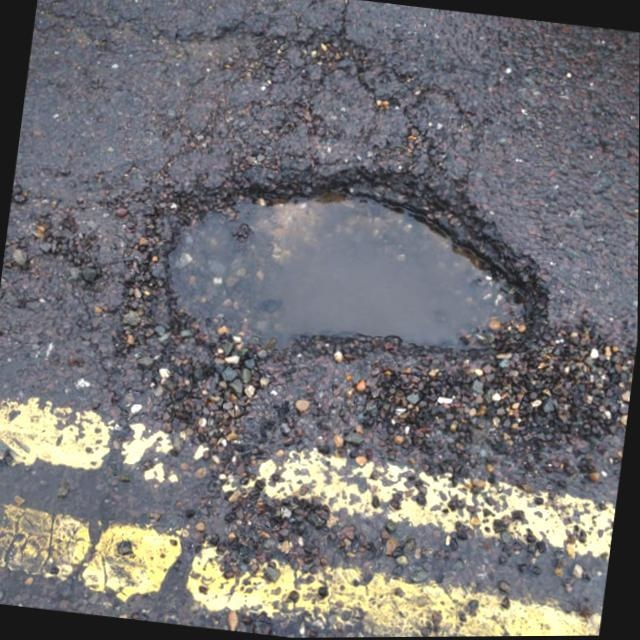pothole: (163, 196, 526, 348)
